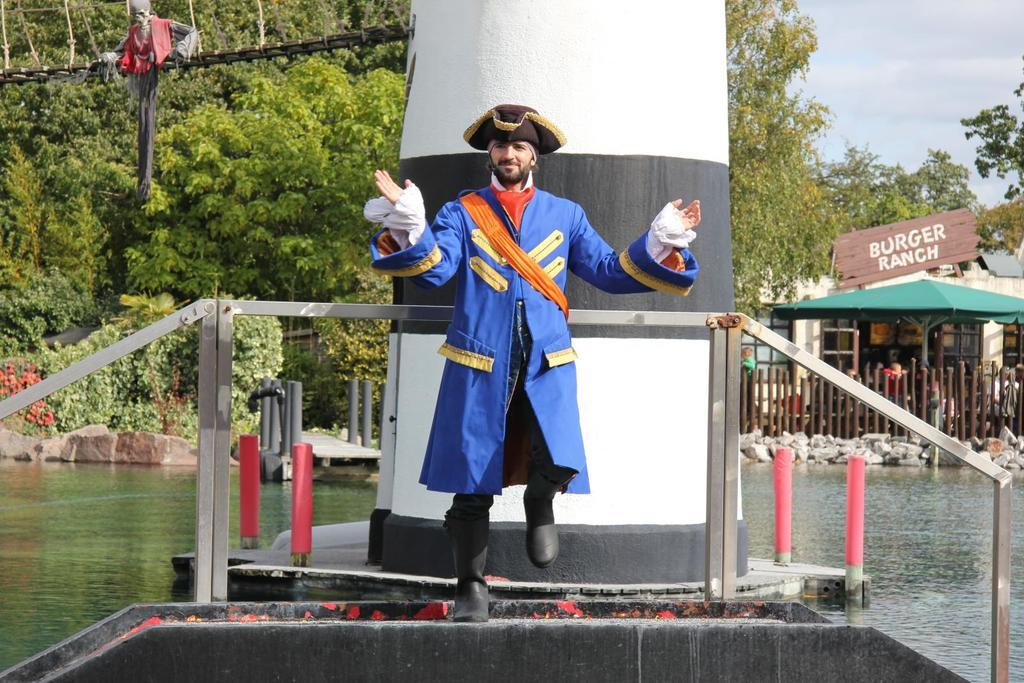Hat: (466, 102, 566, 158)
